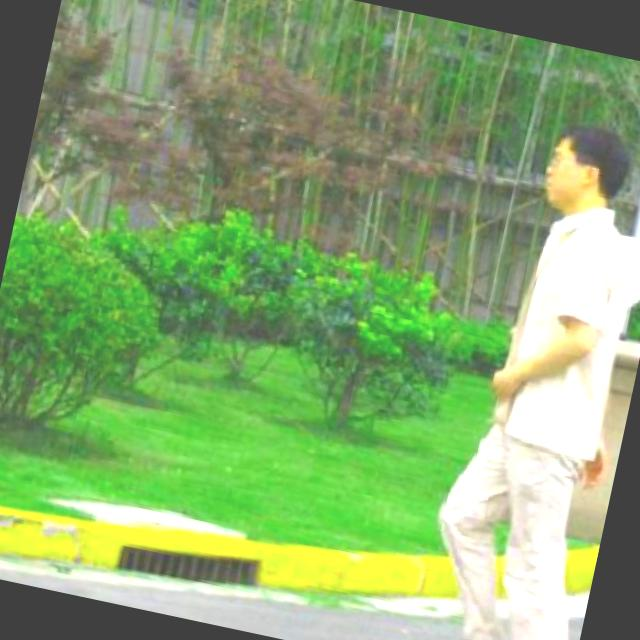Person: (392, 104, 640, 640)
